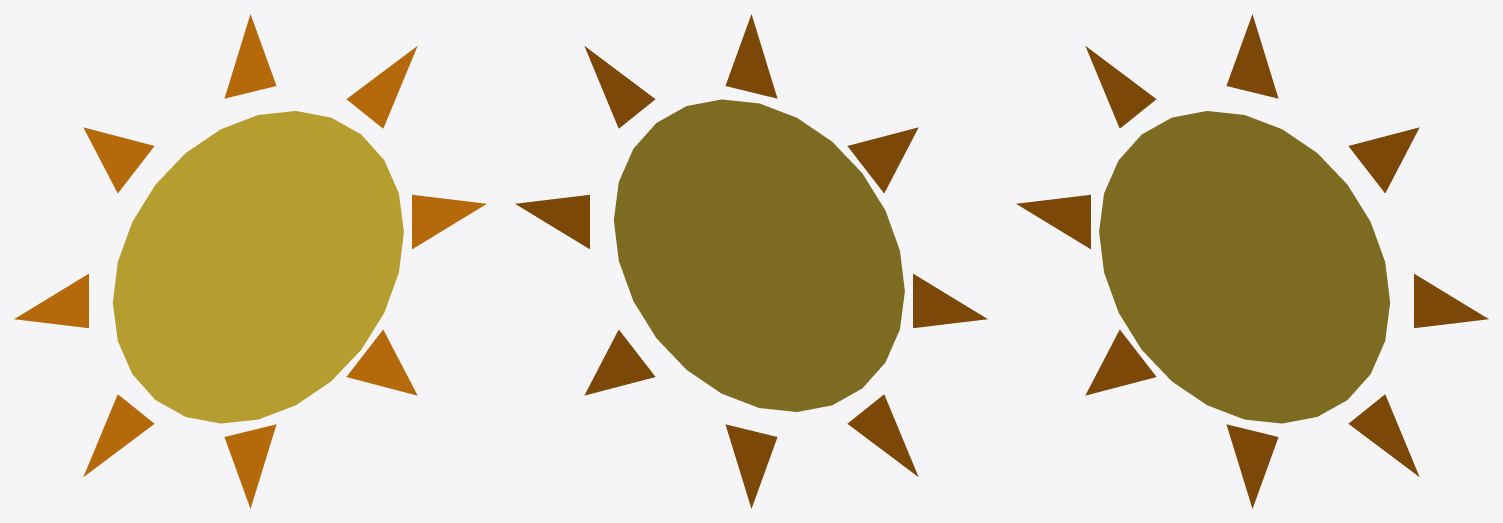
Rendered from sol.glb.
The picture shows the model from 3 angles, left to right: view 1: azimuth 30°, elevation 25°; view 2: azimuth 150°, elevation 25°; view 3: azimuth 330°, elevation 25°; orthographic projection.
Visible parts, largest first — view 1: sol; view 2: sol; view 3: sol.
Part boxes in pixels (x1,y1,x2,y2): sol: (14, 14, 486, 508); sol: (515, 14, 987, 508); sol: (1016, 14, 1488, 508).
Size of the model in its own units: 1.04 by 1.04 by 0.03.
